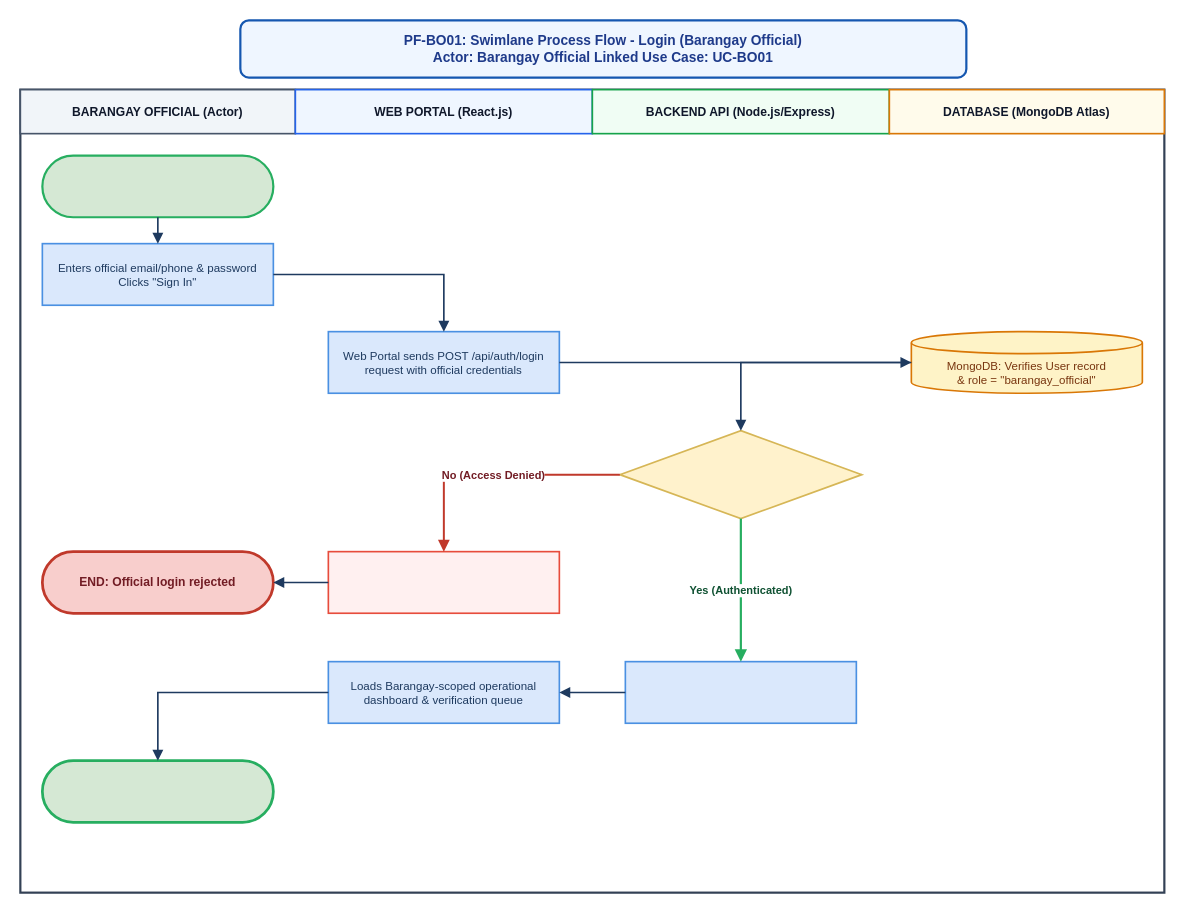
Some shapes in this 1184 by 912 pixel diagram are drawn without their labels. The shapes that lost their labels are listed below. From the top down, each one's centre as x and y in pixels, then its label:
pixel 157 186: START: Opens Web Admin Login
pixel 740 474: Password valid & role is barangay_official?
pixel 443 582: Displays "Invalid Official Credentials" banner
pixel 740 692: Signs JWT token scoped to official barangay jurisdiction
pixel 157 791: END: Barangay Portal active
